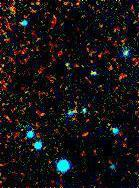star: (0, 0, 24, 20)
